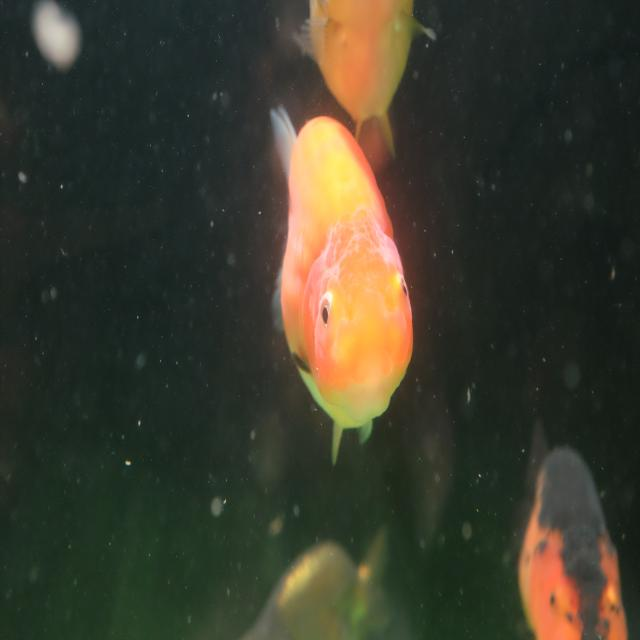Tilapia: (268, 101, 415, 471), (294, 0, 435, 180), (517, 420, 629, 640)
